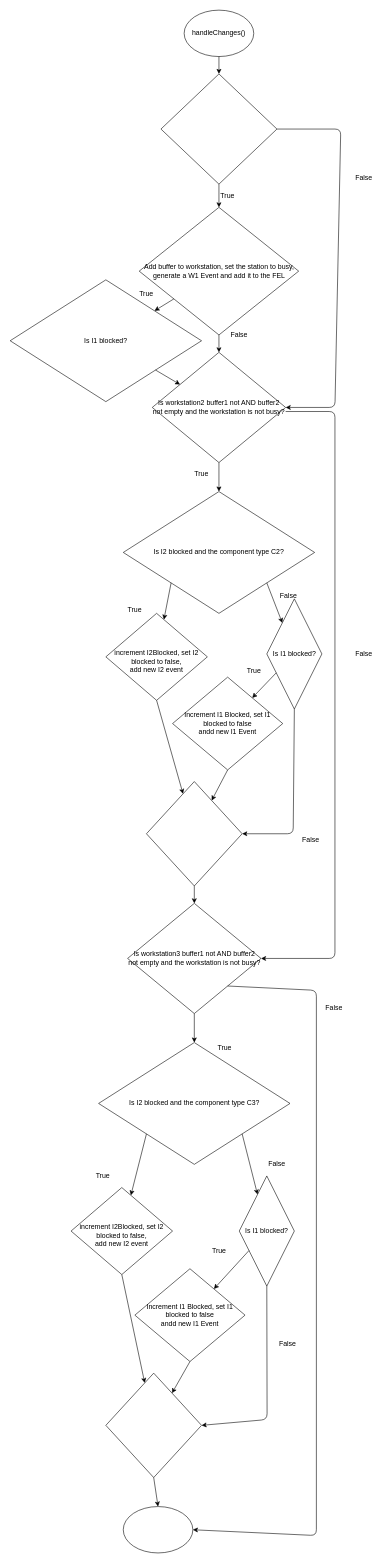
Image size: 386x1563. Some labels were removed from this diagram. The shapes that lost their labels are listed below. From the top down, each one's centre as x and y in pixels, then its label:
(218,128): Is workstation1 buffer1 not empty and the workstation is not busy?
(194,833): Clear W2 buffer 1 and 2 Set W2 busy to true Generate new W2 event
(153,1425): Clear W3 buffer 1 and 2 Set W3 busy to true Generate new W3 event
(158,1529): Return
